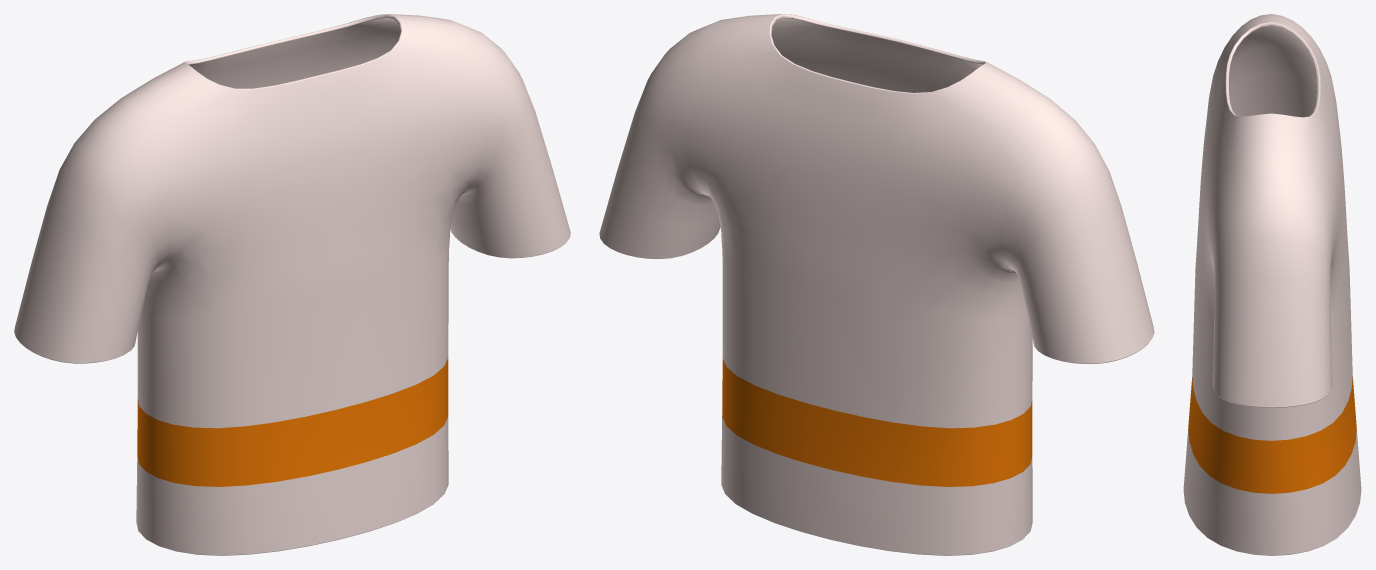
Rendered from Public_13_T_Shirt_2.glb.
3 renders of one model, left to right at view 1: azimuth 30°, elevation 25°; view 2: azimuth 150°, elevation 25°; view 3: azimuth 270°, elevation 25°, orthographic. The views are drawn at different scales.
Visible parts, largest first — view 1: Public_13_T_Shirt_2; view 2: Public_13_T_Shirt_2; view 3: Public_13_T_Shirt_2.
Part boxes in pixels (x1=…): Public_13_T_Shirt_2: x1=14, y1=14, x2=570, y2=555; Public_13_T_Shirt_2: x1=599, y1=14, x2=1154, y2=555; Public_13_T_Shirt_2: x1=1183, y1=14, x2=1361, y2=555.
Size of the model in its own units: 0.8008 by 0.6643 by 0.2531.
Materials: 1 (1 with a texture image).
